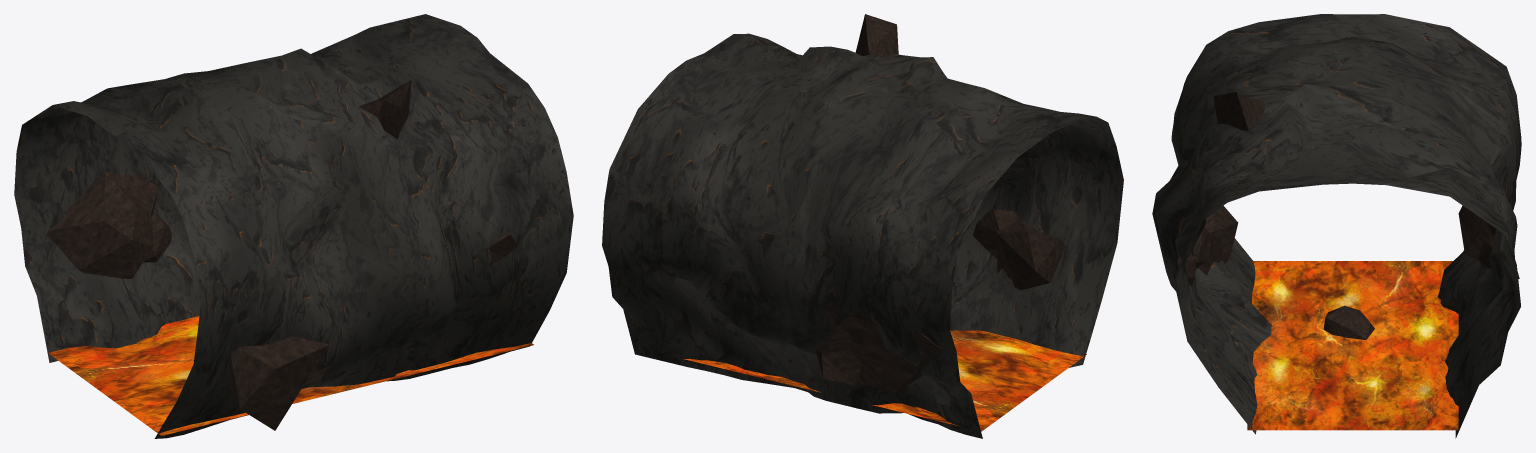
The model's file is Grot_3.fbx.
The picture shows the model from 3 angles, left to right: view 1: azimuth 30°, elevation 25°; view 2: azimuth 150°, elevation 25°; view 3: azimuth 270°, elevation 25°; orthographic projection. The views are drawn at different scales.
Visible parts, largest first — view 1: muur, Lava, Platonic_5, Platonic_1, Platonic, Platonic_6, Platonic_3; view 2: muur, Lava, Platonic_5, Platonic_1, Platonic_6, Platonic, Platonic_2; view 3: muur, Lava, Platonic_1, Platonic, Platonic_4, Platonic_5, Platonic_2, Platonic_6.
Part boxes in pixels (x1,y1,x2,y2): muur: [14, 14, 573, 438]; Lava: [48, 316, 533, 435]; Platonic_5: [47, 172, 157, 278]; Platonic_1: [228, 336, 329, 430]; Platonic: [358, 80, 411, 138]; Platonic_6: [143, 211, 171, 262]; Platonic_3: [485, 232, 517, 266]; muur: [602, 33, 1123, 438]; Lava: [684, 330, 1086, 431]; Platonic_5: [825, 304, 941, 393]; Platonic_1: [996, 210, 1065, 290]; Platonic_6: [815, 328, 861, 384]; Platonic: [855, 14, 898, 58]; Platonic_2: [973, 210, 1015, 258]; muur: [1152, 14, 1521, 438]; Lava: [1247, 261, 1458, 430]; Platonic_1: [1198, 205, 1238, 275]; Platonic: [1213, 92, 1264, 131]; Platonic_4: [1323, 305, 1374, 339]; Platonic_5: [1458, 200, 1509, 260]; Platonic_2: [1193, 227, 1208, 269]; Platonic_6: [1478, 235, 1519, 278].
Bounding box in the file's own units: 764 × 615 × 700.
Materials: 3 (2 with a texture image).
